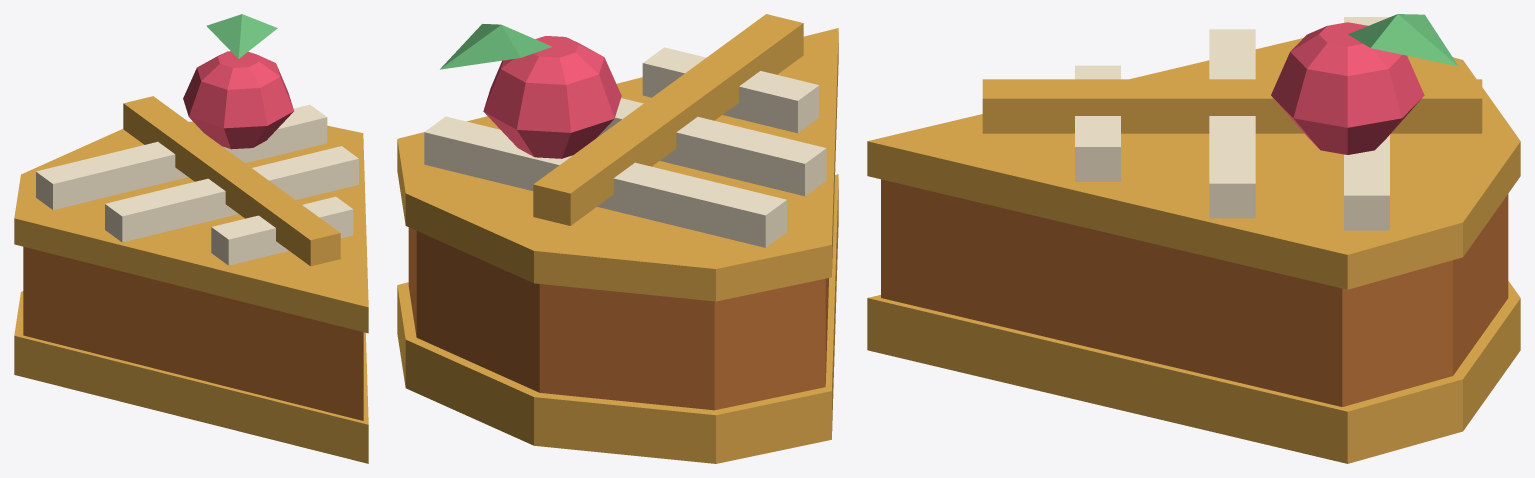
The model's file is SNACK_APPLE_PIE.fbx.
3 renders of one model, left to right at view 1: azimuth 30°, elevation 25°; view 2: azimuth 150°, elevation 25°; view 3: azimuth 270°, elevation 25°, orthographic. The views are drawn at different scales.
Visible parts, largest first — view 1: SNACK_APPLE_PIE; view 2: SNACK_APPLE_PIE; view 3: SNACK_APPLE_PIE.
Part boxes in pixels (<box>): SNACK_APPLE_PIE: <box>14,14,368,463</box>; SNACK_APPLE_PIE: <box>397,14,838,463</box>; SNACK_APPLE_PIE: <box>867,14,1520,463</box>.
Size of the model in its own units: 2.8 by 2.2 by 3.4.
